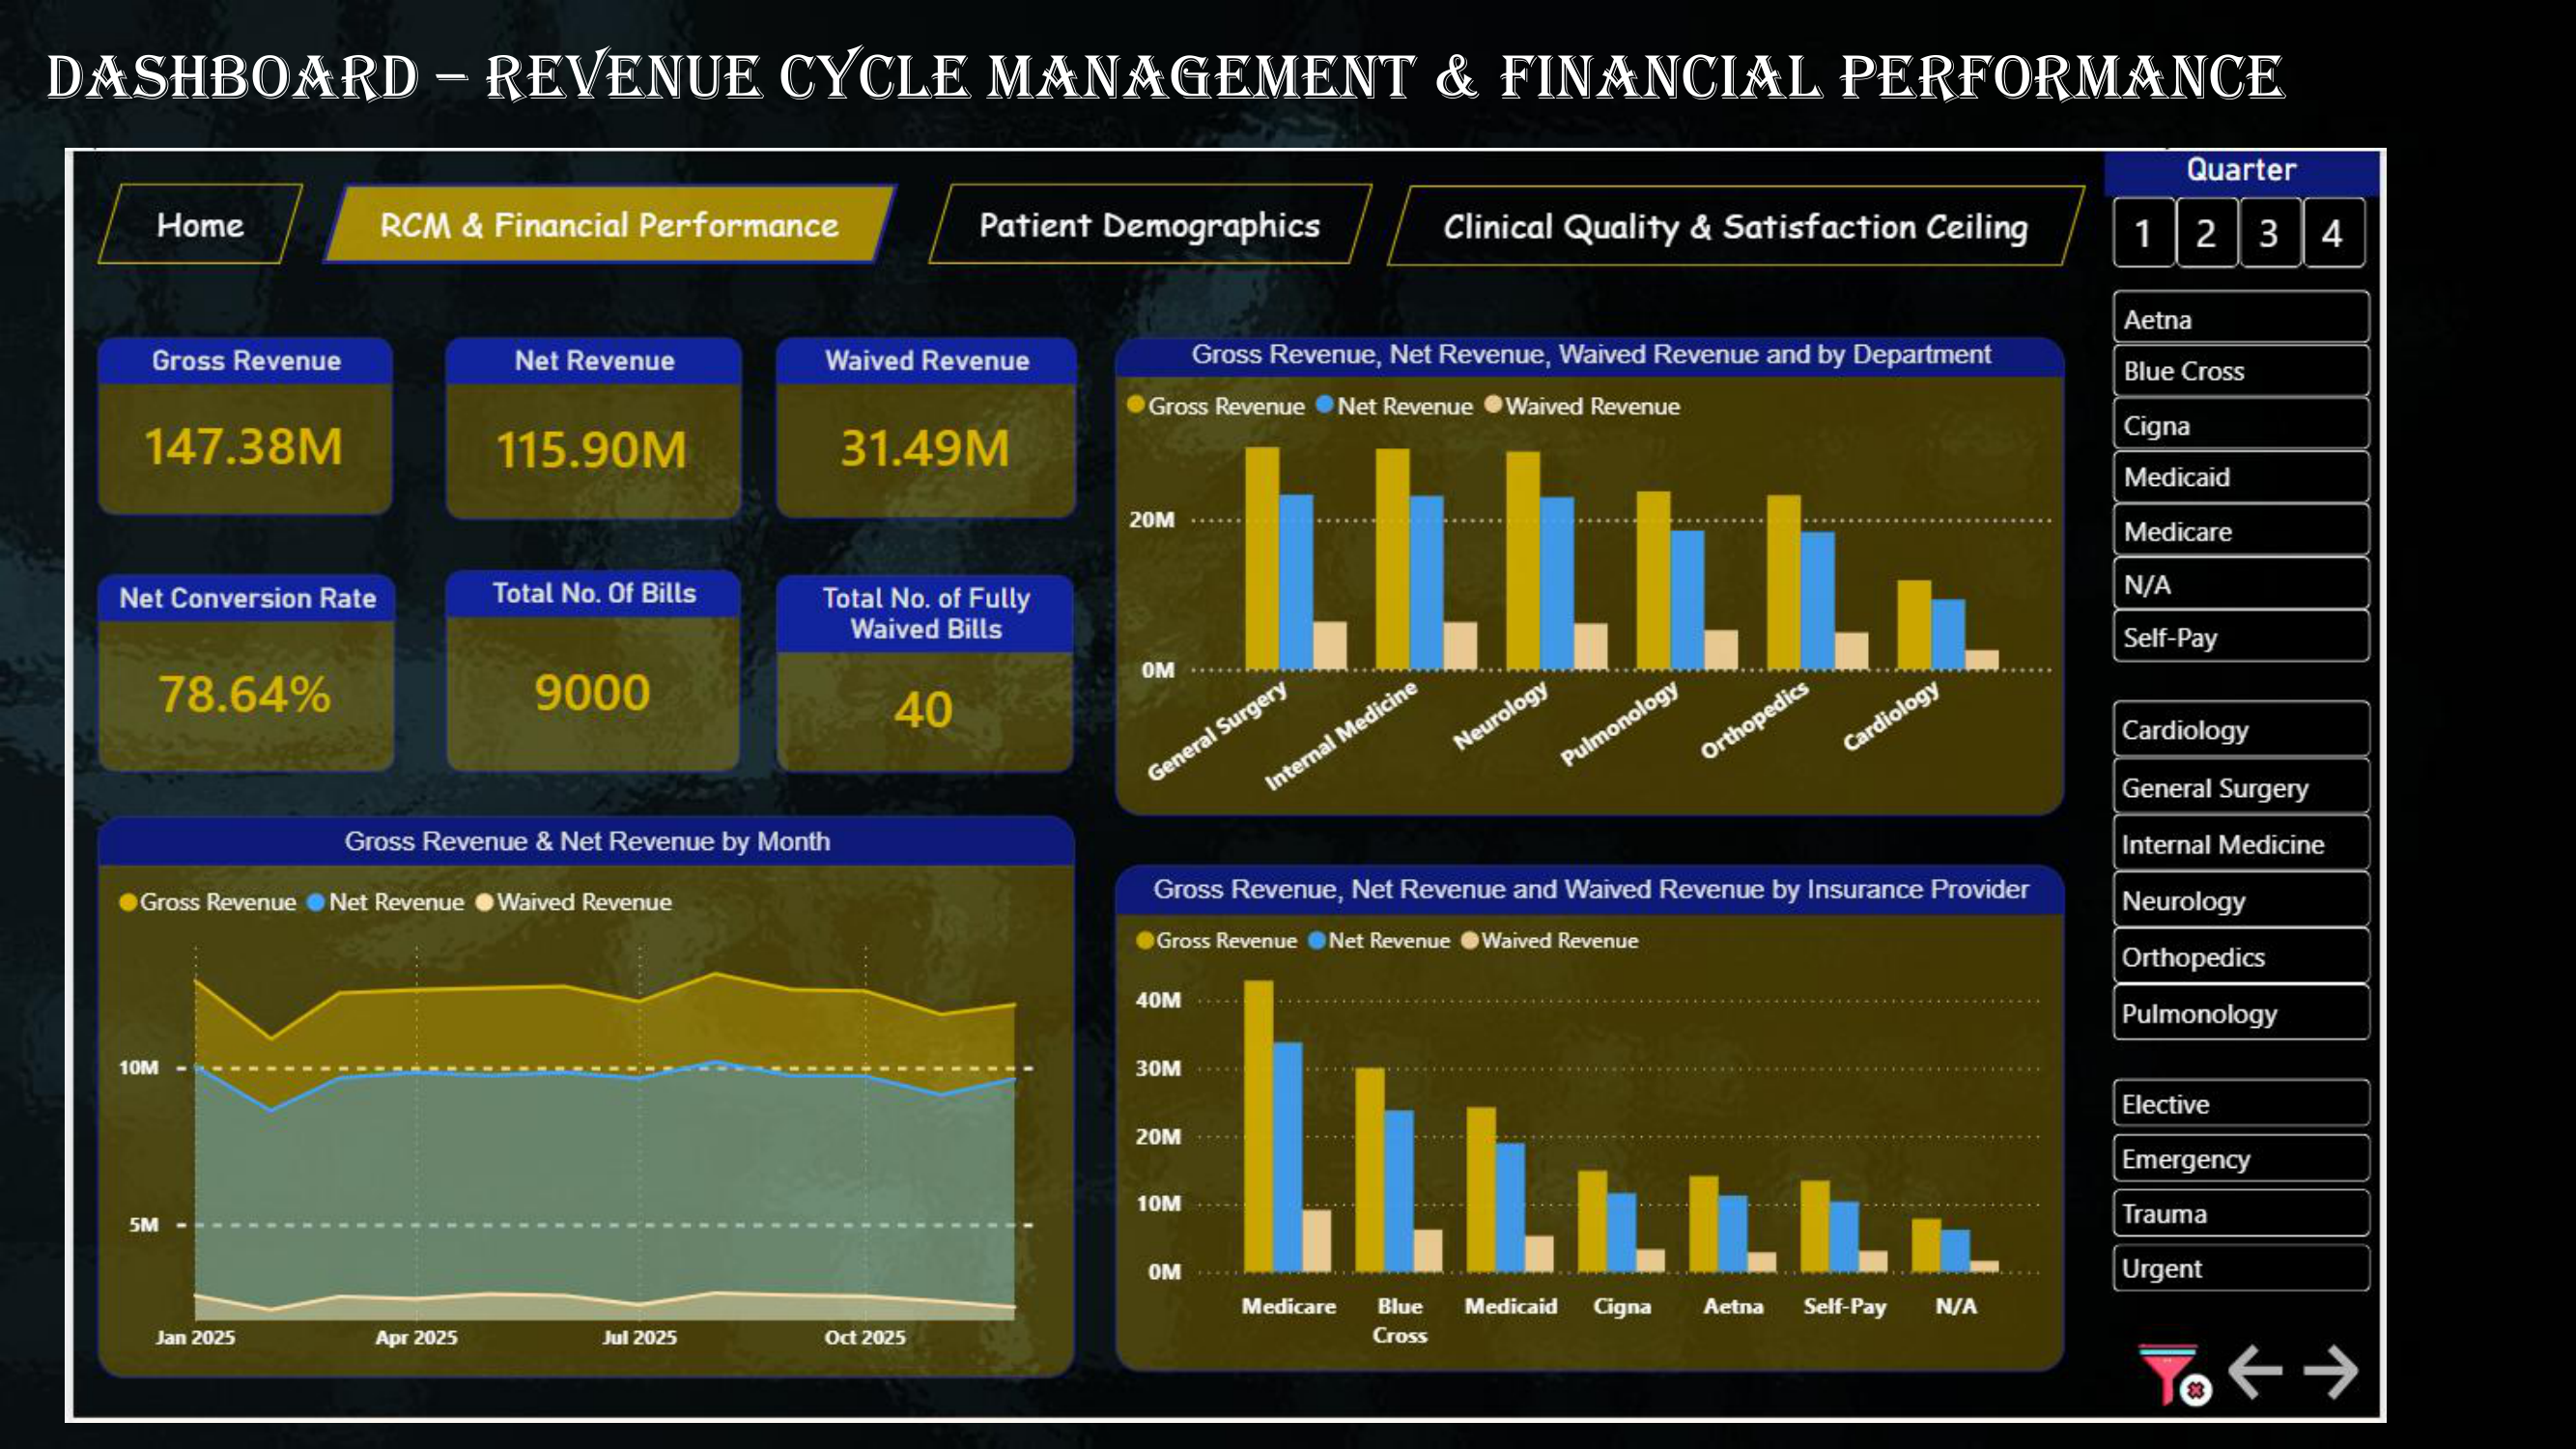

The page's visual inventory and layout, read from the dashboard file:
{"tool":"powerbi","page":{"name":"RCM & Financial Performance","canvas":[1280,720],"ordinal":1},"visuals":[{"type":"cardVisual","title":"Gross Revenue","fields":{"Data":["Sum(Fact_Admissions.Total_Charges)"]},"box":[13.8,105,164.4,100.8],"z":0},{"type":"cardVisual","title":"Waived Revenue","fields":{"Data":["Sum(Fact_Admissions.Waived_Amount)"]},"box":[389.5,105,167.1,102.2],"z":1000},{"type":"clusteredColumnChart","title":"Gross Revenue, Net Revenue, Waived Revenue and by Department","fields":{"Category":["Dim_Doctors.Specialty"],"Y":["Sum(Fact_Admissions.Total_Charges)","Sum(Fact_Admissions.Net_Paid)","Sum(Fact_Admissions.Waived_Amount)"]},"box":[577.3,105,527.6,270.7],"z":2000},{"type":"shape","box":[13.8,18,114.6,45.6],"z":3000},{"type":"shape","box":[138.1,18,320.4,45.6],"z":4000},{"type":"shape","box":[473.7,18,247.2,45.6],"z":5000},{"type":"shape","box":[729.2,19.3,388.1,45.6],"z":6000},{"type":"clusteredColumnChart","title":"Gross Revenue, Net Revenue and Waived Revenue by Insurance Provider","fields":{"Category":["Dim_Patients.Insurance_Provider"],"Y":["Sum(Fact_Admissions.Total_Charges)","Sum(Fact_Admissions.Net_Paid)","Sum(Fact_Admissions.Waived_Amount)"]},"box":[577.4,403.5,527.3,286.6],"z":7000},{"type":"image","box":[1140.1,669.6,51.9,44.6],"z":8000},{"type":"actionButton","box":[1231.8,669.6,39.8,39.8],"z":9000},{"type":"actionButton","box":[1192,669.6,39.8,39.8],"z":10000},{"type":"cardVisual","title":"Net Revenue","fields":{"Data":["Sum(Fact_Admissions.Net_Paid)"]},"box":[205.9,104.7,164.7,102.9],"z":11000},{"type":"cardVisual","title":"Net Conversion Rate","fields":{"Data":["Fact_Admissions.Net_Conversion_Rate"]},"box":[13.8,238.9,165.7,111.9],"z":12000},{"type":"advancedSlicerVisual","fields":{"Values":["Fact_Admissions.Year_Quarter"]},"box":[1127.1,0,152.9,71.4],"z":13000},{"type":"advancedSlicerVisual","fields":{"Values":["Dim_Patients.Insurance_Provider"]},"box":[1126.8,73.6,153.2,220.8],"z":14000},{"type":"advancedSlicerVisual","fields":{"Values":["Dim_Doctors.Specialty"]},"box":[1126.8,305.2,153.2,203.9],"z":15000},{"type":"advancedSlicerVisual","fields":{"Values":["Fact_Admissions.Admission_Type"]},"box":[1126.8,518.8,153.2,130.3],"z":16000},{"type":"lineChart","title":"Gross Revenue & Net Revenue by Month","fields":{"Y":["Sum(Fact_Admissions.Total_Charges)","Sum(Fact_Admissions.Net_Paid)","Sum(Fact_Admissions.Waived_Amount)"],"Category":["Fact_Admissions.Admission_Date.Variation.Date Hierarchy.Year","Fact_Admissions.Admission_Date.Variation.Date Hierarchy.Quarter","Fact_Admissions.Admission_Date.Variation.Date Hierarchy.Month"]},"box":[13.8,375.7,542.8,317.7],"z":17000},{"type":"cardVisual","title":"Total No. Of Bills","fields":{"Data":["CountNonNull(Fact_Admissions.Encounter_ID)"]},"box":[205.8,236.2,164.4,114.6],"z":18000},{"type":"cardVisual","title":"Total No. of Fully Waived Bills","fields":{"Data":["Fact_Admissions.total no. of fully waived bill"]},"box":[389.5,238.9,165.7,111.9],"z":19000}]}

Visuals, with their boxes in screenshot pixels (x1, y1, x2, y2), scaled from the page's 1280x720 canvas onto the 2576x1449 screenshot:
"Gross Revenue" cardVisual: <bbox>28, 212, 358, 414</bbox>
"Waived Revenue" cardVisual: <bbox>784, 212, 1120, 417</bbox>
"Gross Revenue, Net Revenue, Waived Revenue and by Department" clusteredColumnChart: <bbox>1162, 212, 2223, 756</bbox>
shape: <bbox>28, 37, 259, 128</bbox>
shape: <bbox>278, 37, 922, 128</bbox>
shape: <bbox>953, 37, 1451, 128</bbox>
shape: <bbox>1467, 39, 2249, 130</bbox>
"Gross Revenue, Net Revenue and Waived Revenue by Insurance Provider" clusteredColumnChart: <bbox>1162, 812, 2223, 1389</bbox>
image: <bbox>2295, 1348, 2399, 1437</bbox>
actionButton: <bbox>2479, 1348, 2559, 1428</bbox>
actionButton: <bbox>2399, 1348, 2479, 1428</bbox>
"Net Revenue" cardVisual: <bbox>414, 211, 746, 418</bbox>
"Net Conversion Rate" cardVisual: <bbox>28, 481, 361, 706</bbox>
advancedSlicerVisual - Fact_Admissions.Year_Quarter: <bbox>2268, 0, 2575, 144</bbox>
advancedSlicerVisual - Dim_Patients.Insurance_Provider: <bbox>2268, 148, 2575, 592</bbox>
advancedSlicerVisual - Dim_Doctors.Specialty: <bbox>2268, 614, 2575, 1025</bbox>
advancedSlicerVisual - Fact_Admissions.Admission_Type: <bbox>2268, 1044, 2575, 1306</bbox>
"Gross Revenue & Net Revenue by Month" lineChart: <bbox>28, 756, 1120, 1396</bbox>
"Total No. Of Bills" cardVisual: <bbox>414, 475, 745, 706</bbox>
"Total No. of Fully Waived Bills" cardVisual: <bbox>784, 481, 1118, 706</bbox>
